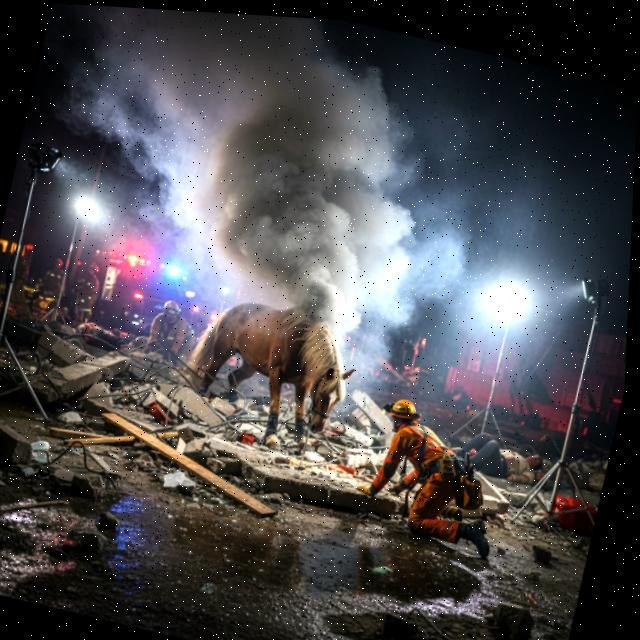civilian: (449, 412, 563, 495)
horse: (163, 283, 375, 464)
rescuer: (344, 376, 523, 563), (139, 292, 204, 366), (66, 258, 107, 324), (38, 248, 75, 306)
